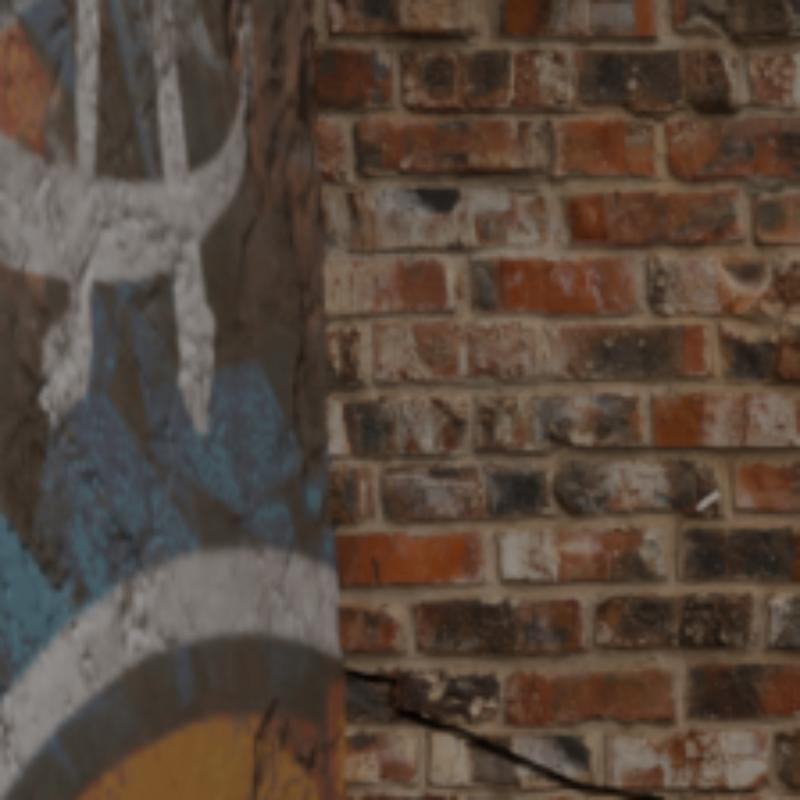crack: (350, 671, 661, 796)
